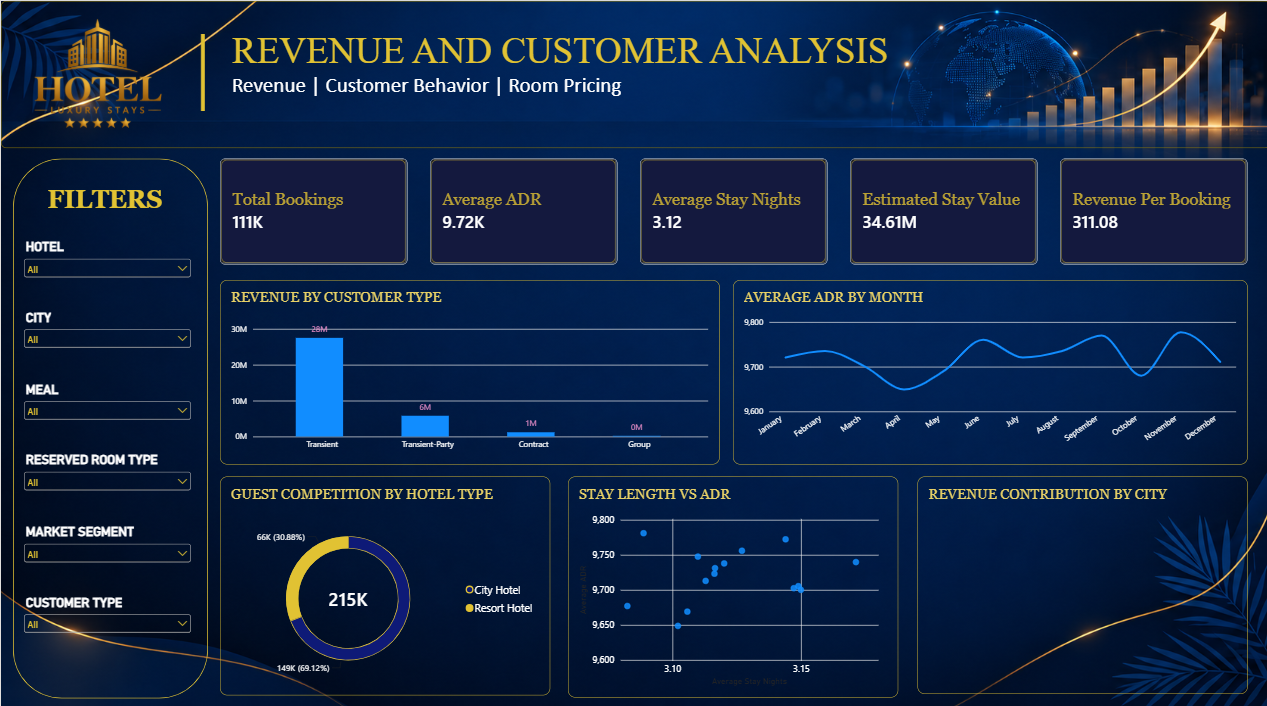

The page's visual inventory and layout, read from the dashboard file:
{"tool":"powerbi","page":{"name":"Revenue and Customer Analysis","canvas":[1920,1080],"ordinal":1},"visuals":[{"type":"textbox","box":[0,0,1921.5,222.6],"z":0},{"type":"textbox","box":[349.8,43.2,1038,145.4],"z":1000},{"type":"image","box":[0,0,293,222.6],"z":2000},{"type":"textbox","box":[293,22.7,38.6,165.8],"z":3000},{"type":"shape","box":[18.2,238.5,295.3,817.7],"z":4000},{"type":"textbox","box":[70.4,279.4,186.2,63.6],"z":5000},{"type":"slicer","fields":{"Values":["Sheet1.Hotel Type"]},"box":[30.2,360.5,263,72],"z":6000},{"type":"slicer","fields":{"Values":["Sheet1.city"]},"box":[30.2,468.4,263,72],"z":7000},{"type":"slicer","fields":{"Values":["Sheet1.market_segment"]},"box":[30.2,792.1,263,72],"z":8000},{"type":"slicer","fields":{"Values":["Sheet1.customer_type"]},"box":[30.2,900,263,72],"z":9000},{"type":"slicer","fields":{"Values":["Sheet1.meal"]},"box":[30.2,576.3,263,72],"z":10000},{"type":"slicer","fields":{"Values":["Sheet1.reserved_room_type"]},"box":[30.2,684.2,263,72],"z":11000},{"type":"cardVisual","fields":{"Data":["Sheet1.Total Bookings"]},"box":[331.6,238.5,283.7,160.5],"z":12000},{"type":"cardVisual","fields":{"Data":["Sheet1.Average ADR"]},"box":[649.6,238.5,283.7,160.5],"z":13000},{"type":"cardVisual","fields":{"Data":["Sheet1.Average Stay Nights"]},"box":[967.6,238.5,283.7,160.5],"z":14000},{"type":"cardVisual","fields":{"Data":["Sheet1.Estimated Stay Value"]},"box":[1285.6,238.5,283.7,160.5],"z":15000},{"type":"cardVisual","fields":{"Data":["Sheet1.Revenue Per Booking"]},"box":[1603.5,238.5,283.7,160.5],"z":16000},{"type":"lineChart","title":"AVERAGE ADR BY MONTH","fields":{"Y":["Sheet1.Average ADR"],"Category":["Calendar.Month"]},"box":[1108.4,422.5,779.1,279.4],"z":17000},{"type":"clusteredColumnChart","title":"REVENUE BY CUSTOMER TYPE","fields":{"Category":["Sheet1.customer_type"],"Y":["Sheet1.Estimated Stay Value"]},"box":[331.6,422.5,756.3,279.4],"z":18000},{"type":"donutChart","title":"GUEST COMPETITION BY HOTEL TYPE","fields":{"Category":["Sheet1.Hotel Type"],"Y":["Sheet1.Total Guests"]},"box":[331.6,720,499.7,331.6],"z":19000},{"type":"map","title":"REVENUE CONTRIBUTION BY CITY","fields":{"Series":["Sheet1.Hotel Type"],"Category":["Sheet1.city"],"Size":["Sheet1.Estimated Stay Value"]},"box":[1387.8,720,499.7,329.3],"z":20000},{"type":"scatterChart","title":"STAY LENGTH VS ADR","fields":{"X":["Sheet1.Average Stay Nights"],"Y":["Sheet1.Average ADR"],"Category":["Sheet1.city"]},"box":[859.5,720,500,334.9],"z":21000}]}

Visuals, with their boxes in screenshot pixels (x1, y1, x2, y2), scaled from the page's 1920x1080 canvas onto the 1267x706 screenshot:
textbox: bbox=(0, 0, 1266, 146)
textbox: bbox=(231, 28, 916, 123)
image: bbox=(0, 0, 193, 146)
textbox: bbox=(193, 15, 219, 123)
shape: bbox=(12, 156, 207, 690)
textbox: bbox=(46, 183, 169, 224)
slicer - Sheet1.Hotel Type: bbox=(20, 236, 193, 283)
slicer - Sheet1.city: bbox=(20, 306, 193, 353)
slicer - Sheet1.market_segment: bbox=(20, 518, 193, 565)
slicer - Sheet1.customer_type: bbox=(20, 588, 193, 635)
slicer - Sheet1.meal: bbox=(20, 377, 193, 424)
slicer - Sheet1.reserved_room_type: bbox=(20, 447, 193, 494)
cardVisual - Sheet1.Total Bookings: bbox=(219, 156, 406, 261)
cardVisual - Sheet1.Average ADR: bbox=(429, 156, 616, 261)
cardVisual - Sheet1.Average Stay Nights: bbox=(639, 156, 826, 261)
cardVisual - Sheet1.Estimated Stay Value: bbox=(848, 156, 1036, 261)
cardVisual - Sheet1.Revenue Per Booking: bbox=(1058, 156, 1245, 261)
"AVERAGE ADR BY MONTH" lineChart: bbox=(731, 276, 1246, 459)
"REVENUE BY CUSTOMER TYPE" clusteredColumnChart: bbox=(219, 276, 718, 459)
"GUEST COMPETITION BY HOTEL TYPE" donutChart: bbox=(219, 471, 549, 687)
"REVENUE CONTRIBUTION BY CITY" map: bbox=(916, 471, 1246, 686)
"STAY LENGTH VS ADR" scatterChart: bbox=(567, 471, 897, 690)
